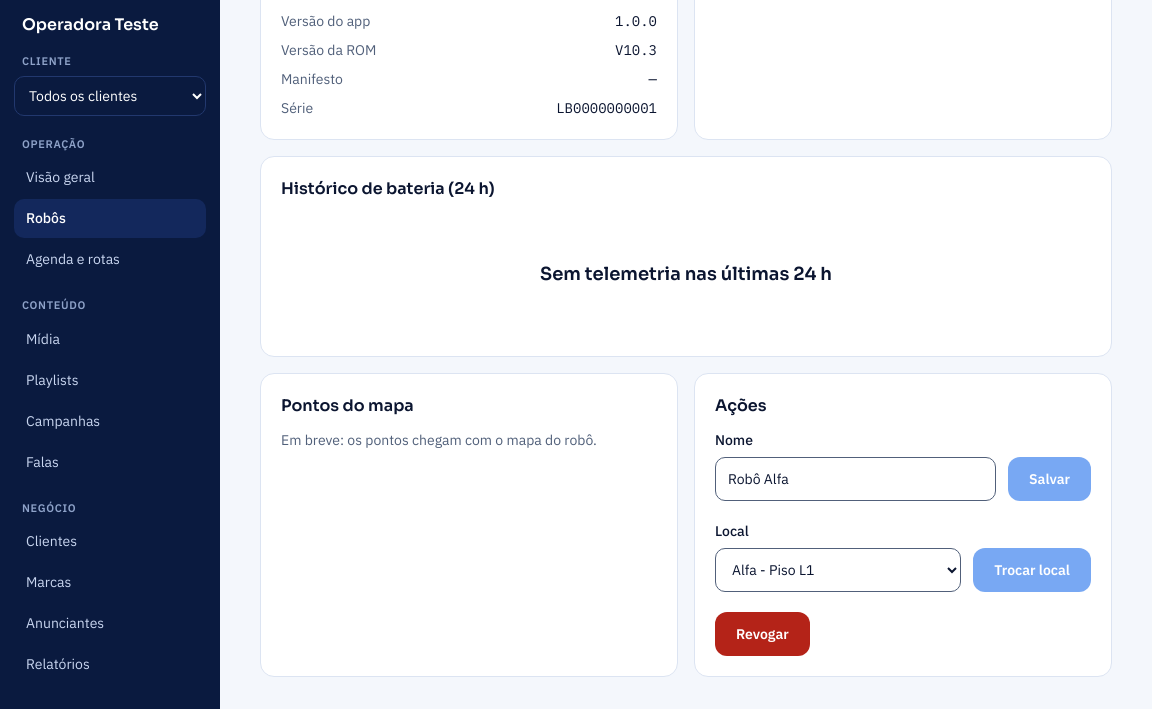
Scenario: robot actions › renames the robot
The width and height of the screenshot is (1152, 709).
(page scrolled)
Replace the text in the field labelled "Nome" with "  Robô Piso L2 ": (856, 479) left=715, top=457, right=996, bottom=501
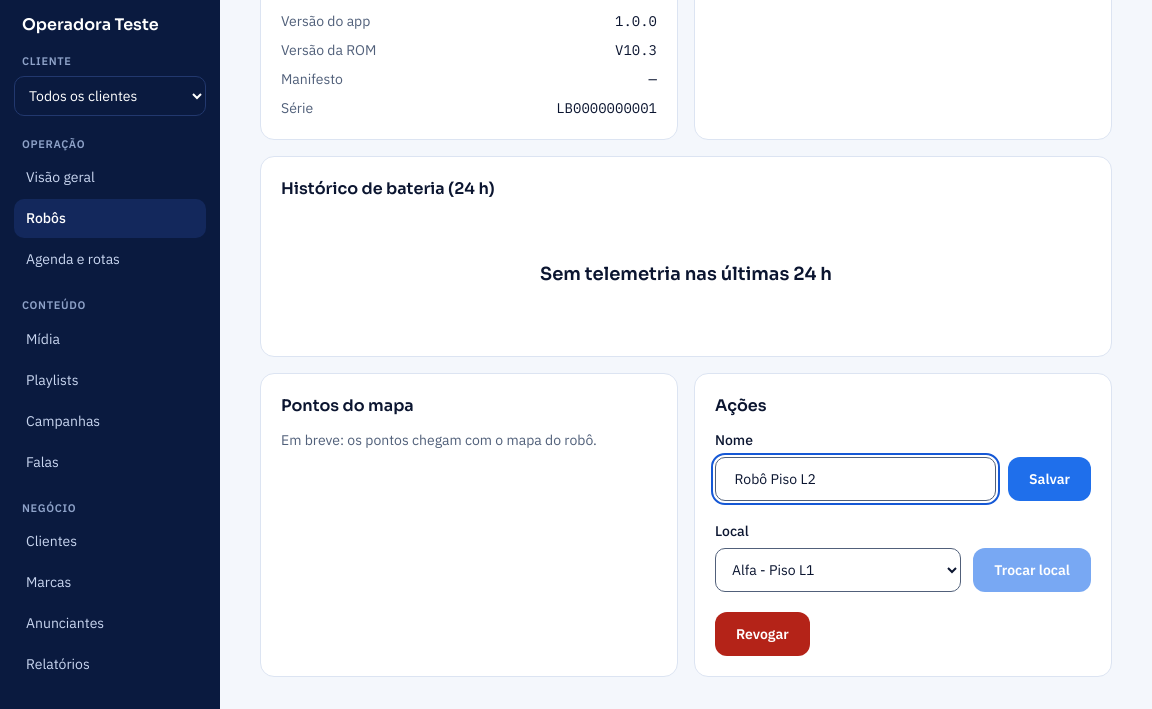
Click the button "Salvar": (1050, 479) left=1008, top=457, right=1091, bottom=501
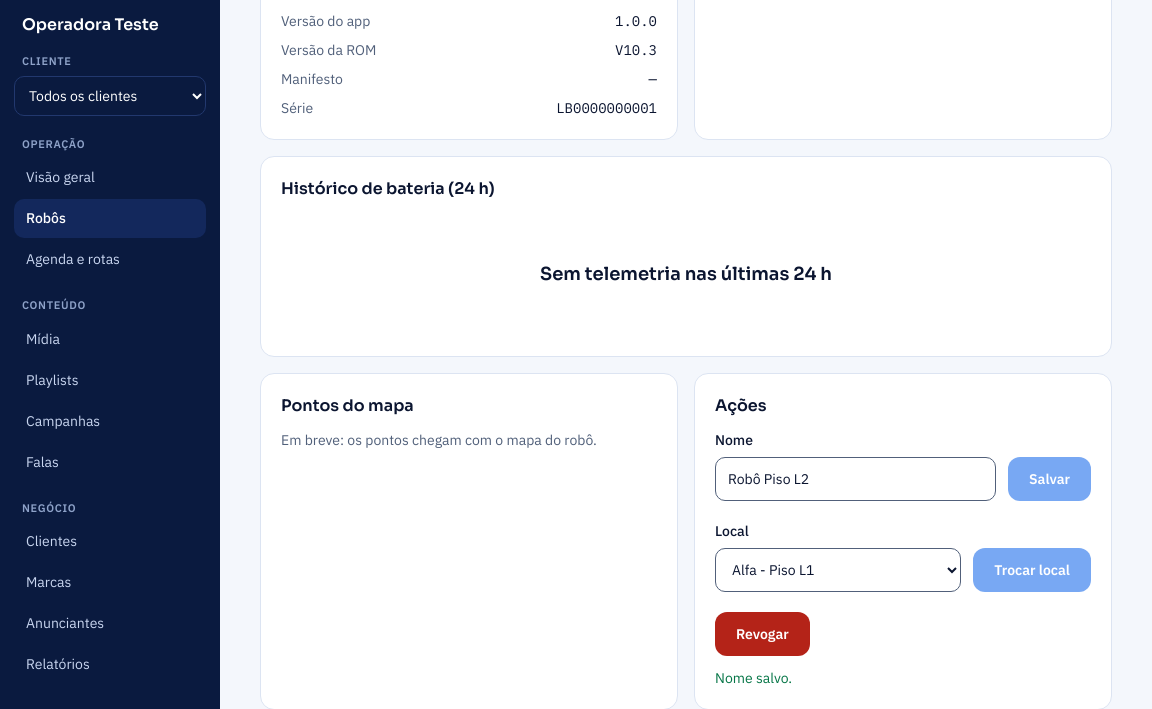
Check: the text "Nome salvo." is shown, box left=715, top=669, right=792, bottom=687
